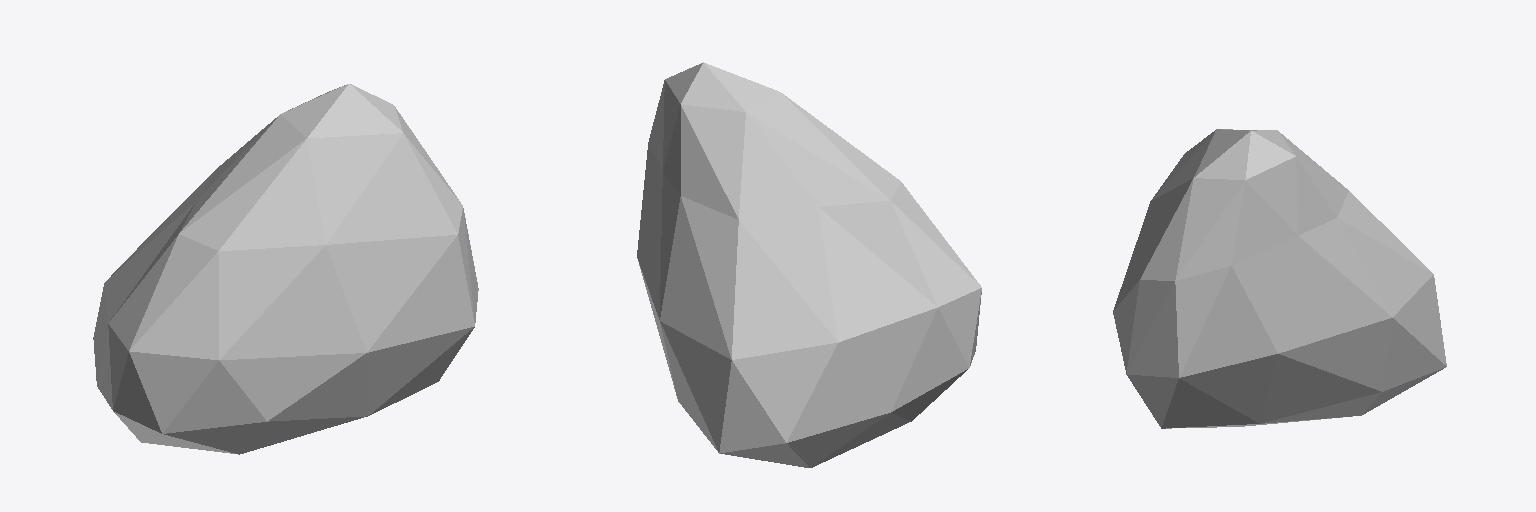
File: asteroid.obj
3 views of the same model, side by side, from view 1: azimuth 30°, elevation 25°; view 2: azimuth 150°, elevation 25°; view 3: azimuth 270°, elevation 25° (orthographic).
Visible parts, largest first — view 1: Asteroid1; view 2: Asteroid1; view 3: Asteroid1.
Boxes of the visible parts, x1=… form: Asteroid1: x1=93, y1=84, x2=478, y2=454; Asteroid1: x1=637, y1=62, x2=981, y2=467; Asteroid1: x1=1113, y1=129, x2=1446, y2=428.
Size of the model in its own units: 45.79 by 41.63 by 38.47.